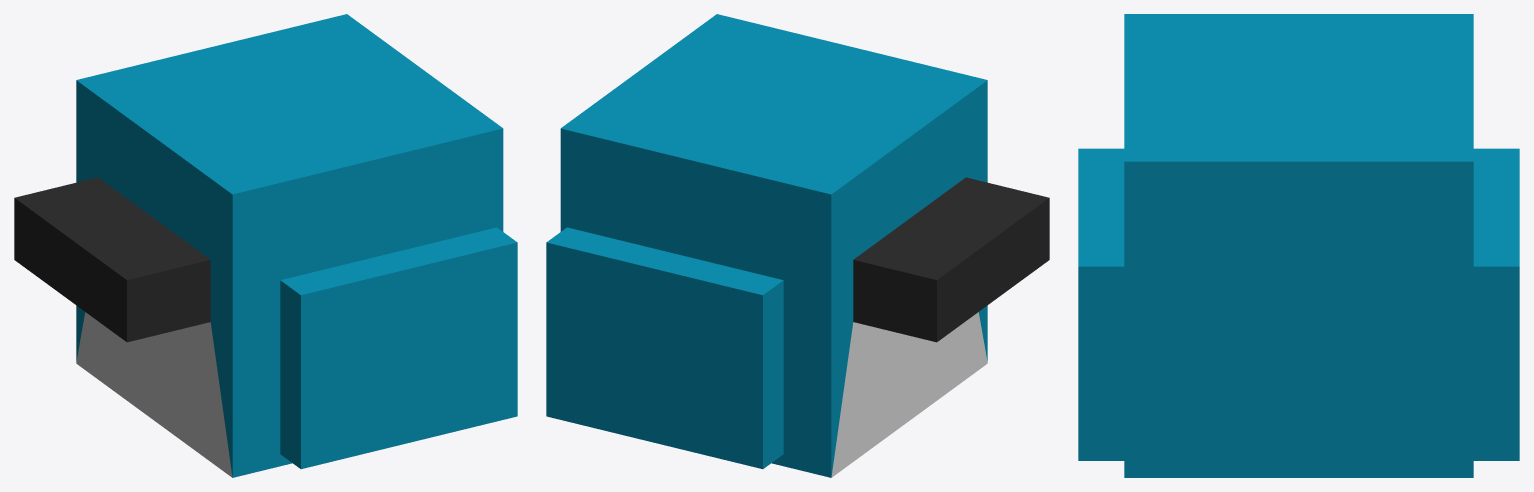
Rendered from Pogo.fbx.
3 views of the same model, side by side, from view 1: azimuth 30°, elevation 25°; view 2: azimuth 150°, elevation 25°; view 3: azimuth 270°, elevation 25° (orthographic). The views are drawn at different scales.
Parts seen in each view (by area): view 1: pCube1; view 2: pCube1; view 3: pCube1.
Boxes of the visible parts, box(x1,y1,x2,y2) form: pCube1: box(14, 14, 517, 477); pCube1: box(546, 14, 1049, 477); pCube1: box(1078, 14, 1519, 477).
Bounding box in the file's own units: 2.62 × 2 × 2.53.
